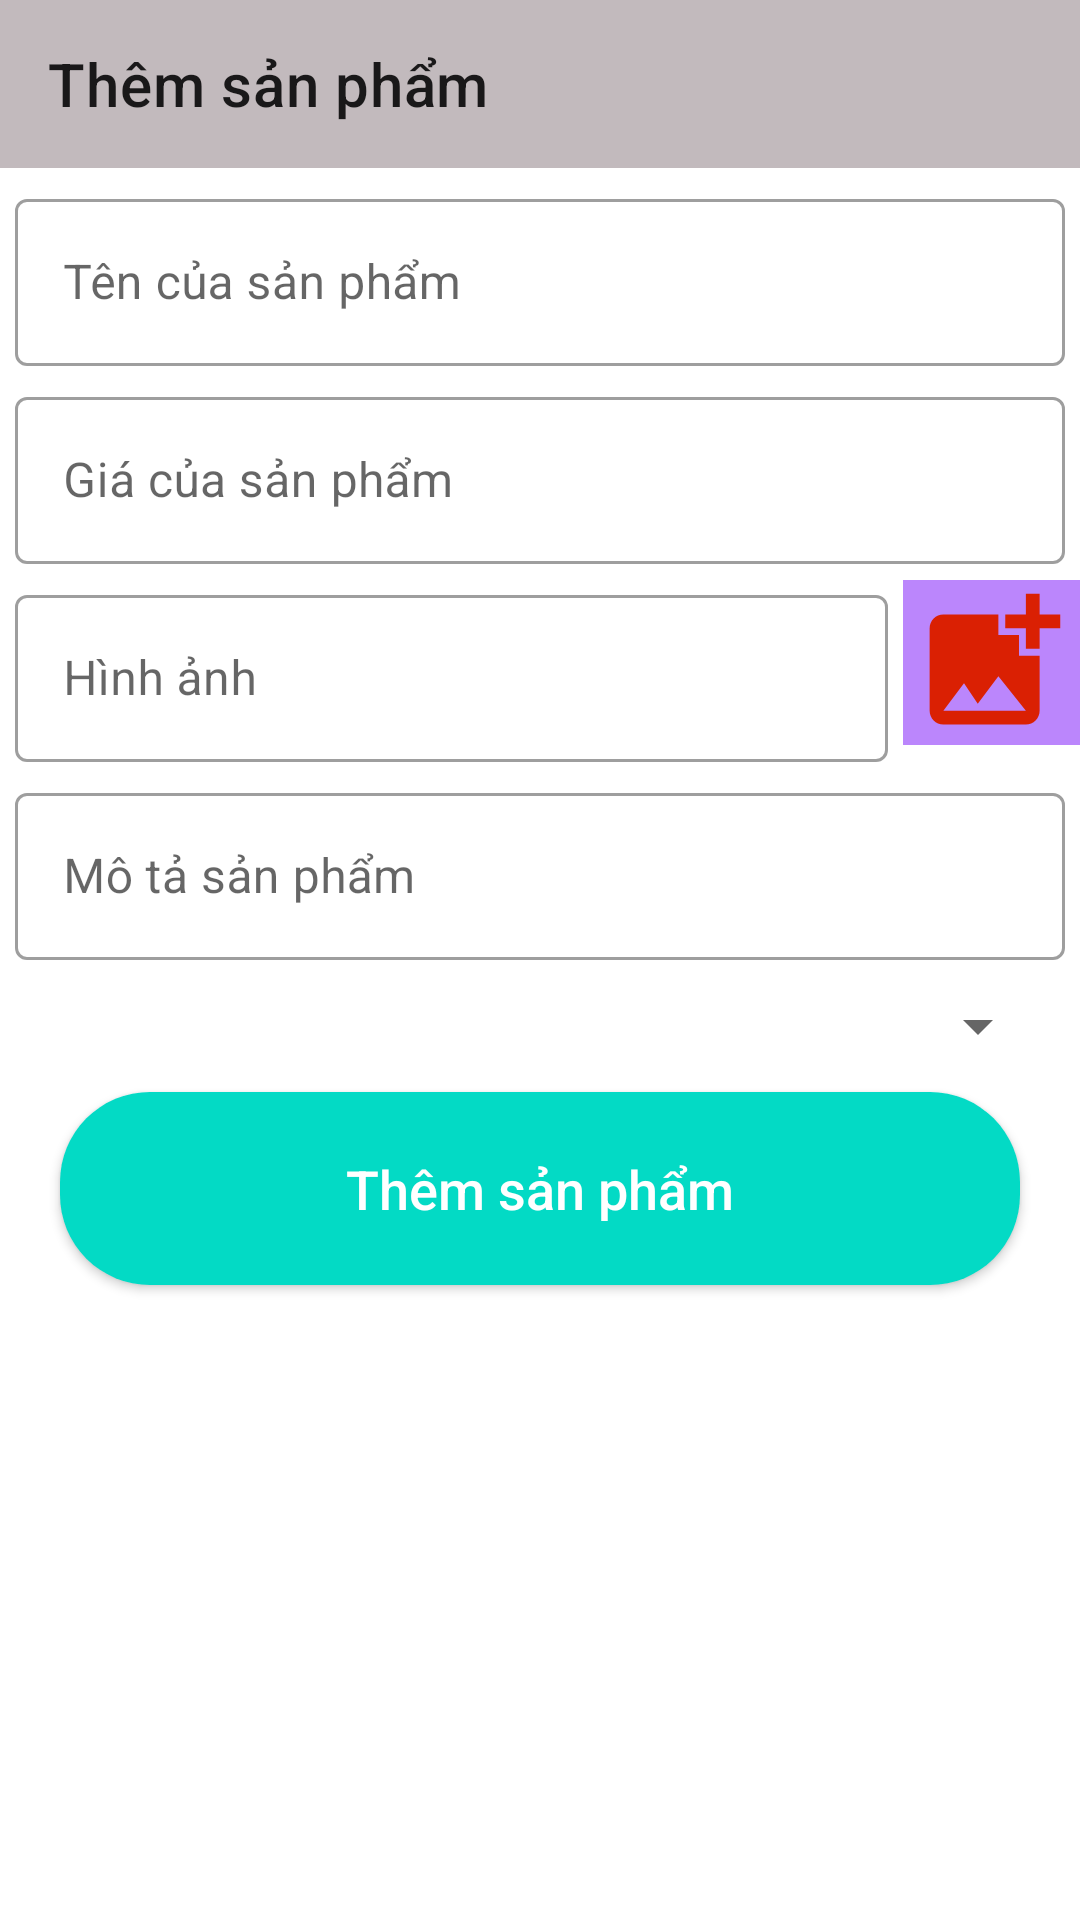

Screen size 1080px×1920px. Icon name, then its center in pixels as point (x, y):
add photo: point (991, 662)
